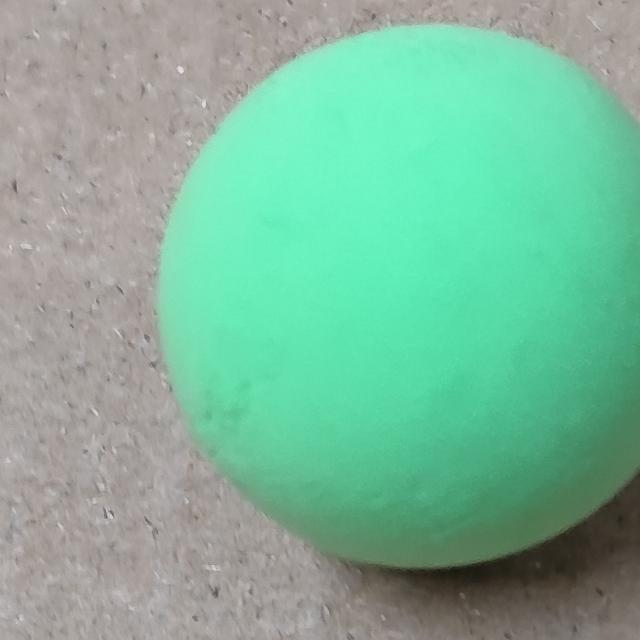bad: (161, 25, 640, 567)
